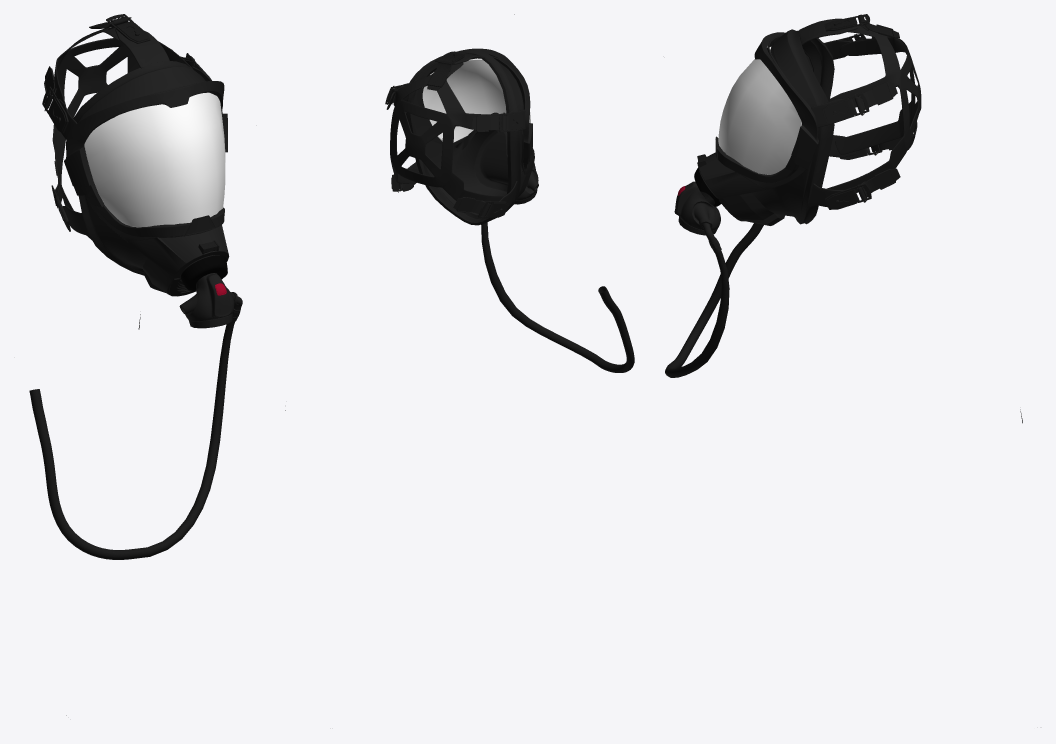
The model's file is mask.glb.
3 views of the same model, side by side, from view 1: azimuth 30°, elevation 25°; view 2: azimuth 150°, elevation 25°; view 3: azimuth 270°, elevation 25° (orthographic). The views are drawn at different scales.
Parts seen in each view (by area): view 1: FPS_mask_mesh; view 2: FPS_mask_mesh; view 3: FPS_mask_mesh.
Part boxes in pixels (bbox=[...]): FPS_mask_mesh: bbox=[29, 14, 234, 559]; FPS_mask_mesh: bbox=[385, 14, 634, 372]; FPS_mask_mesh: bbox=[665, 14, 921, 377].
Size of the model in its own units: 1.36 by 3.88 by 1.92.
12 materials, 5 textured.
